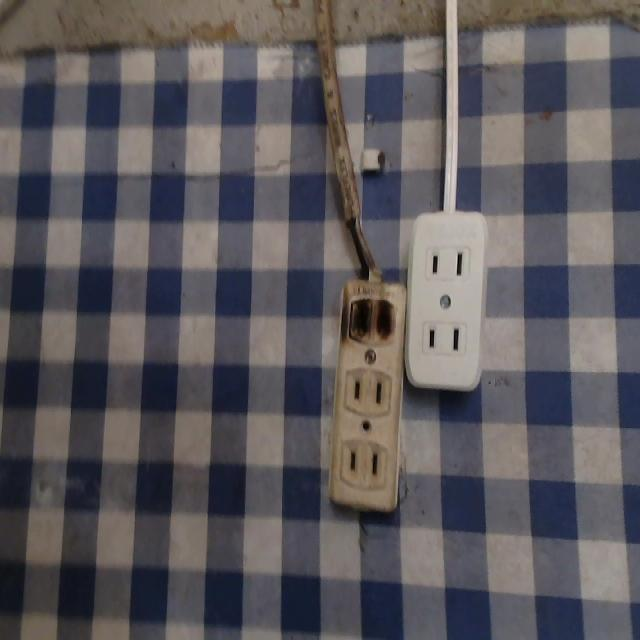-: (338, 291, 402, 352)
